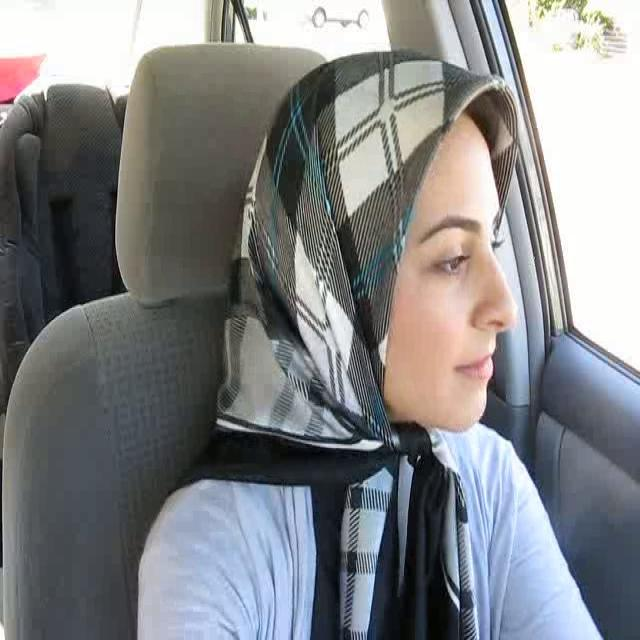close: (450, 344, 496, 386)
